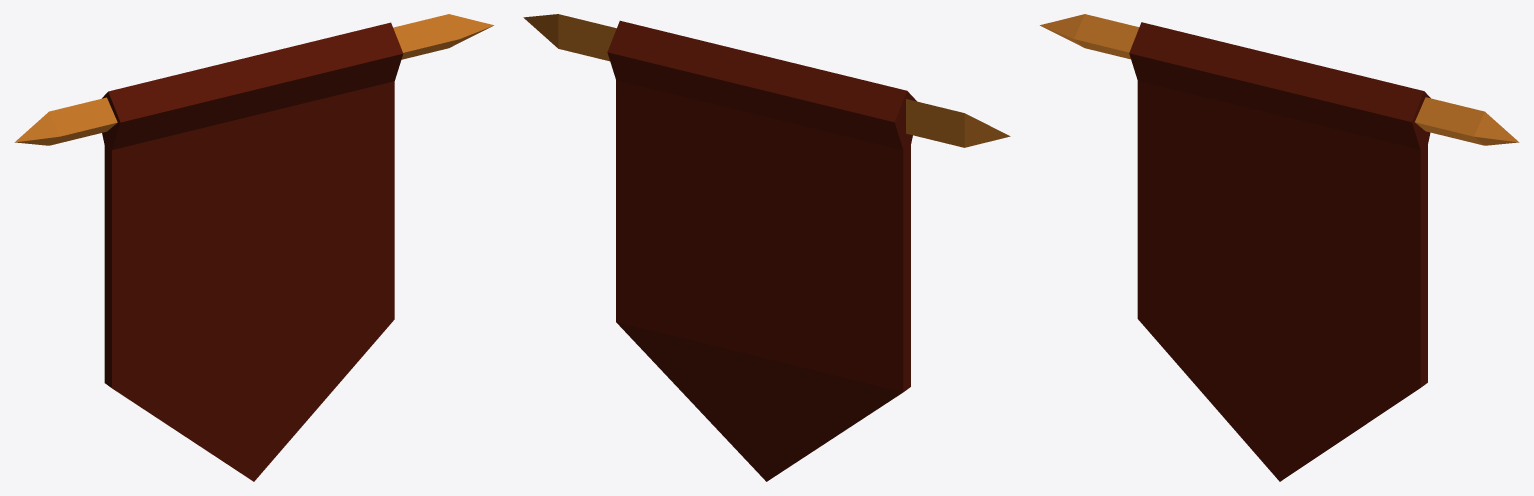
The model's file is SM_SM_Flag_01.fbx.
3 renders of one model, left to right at view 1: azimuth 30°, elevation 25°; view 2: azimuth 150°, elevation 25°; view 3: azimuth 330°, elevation 25°, orthographic.
Parts seen in each view (by area): view 1: SM_Flag_01; view 2: SM_Flag_01; view 3: SM_Flag_01.
Boxes of the visible parts, x1,y1,x2,y2 form: SM_Flag_01: [14, 14, 493, 481]; SM_Flag_01: [523, 14, 1010, 481]; SM_Flag_01: [1040, 14, 1519, 481].
Bounding box in the file's own units: 98.25 × 82.62 × 8.73.
